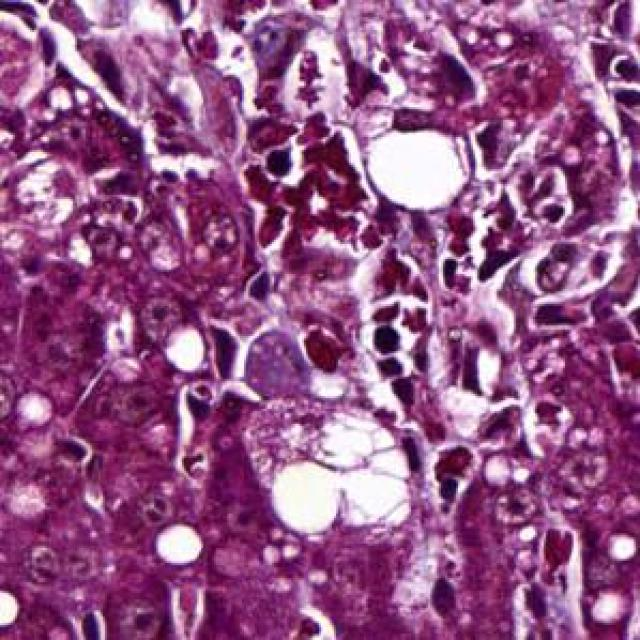ballooning: (244, 392, 420, 537)
